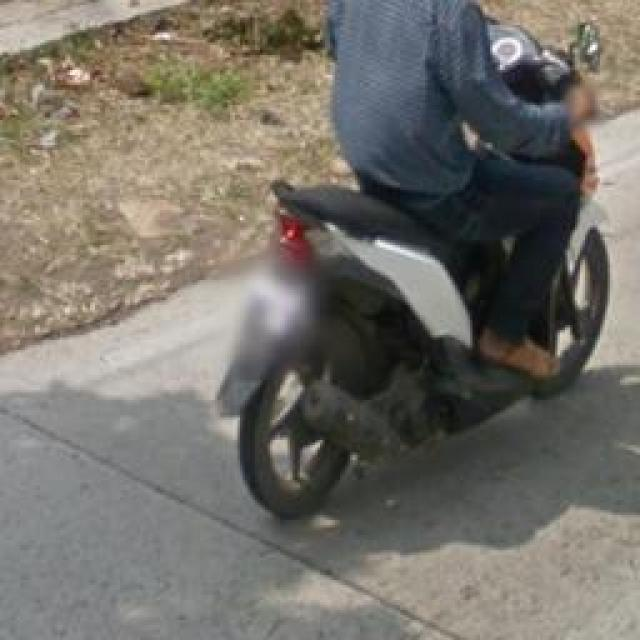motorbike: (203, 0, 616, 523)
